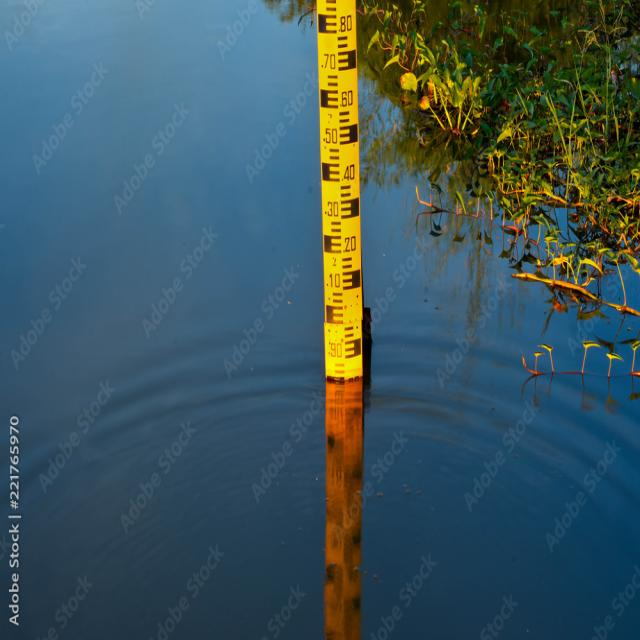ruler: (305, 0, 376, 384)
value: (325, 337, 346, 365), (323, 265, 344, 292), (316, 49, 338, 74), (321, 196, 343, 221), (336, 10, 355, 36), (338, 85, 357, 111), (320, 123, 339, 148), (340, 160, 358, 185), (340, 232, 358, 257)
